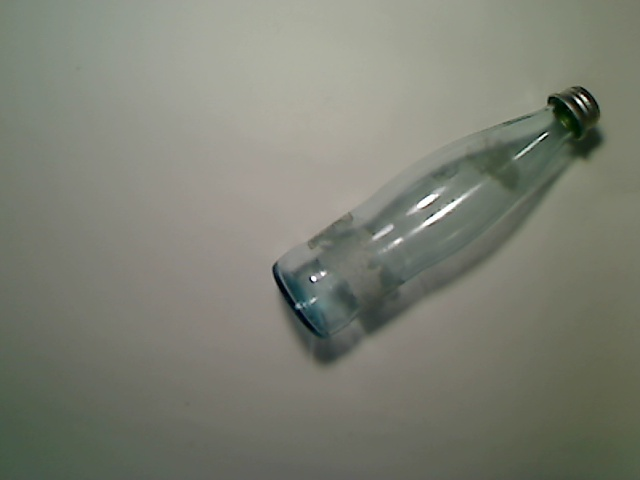bottle: (272, 83, 603, 339)
